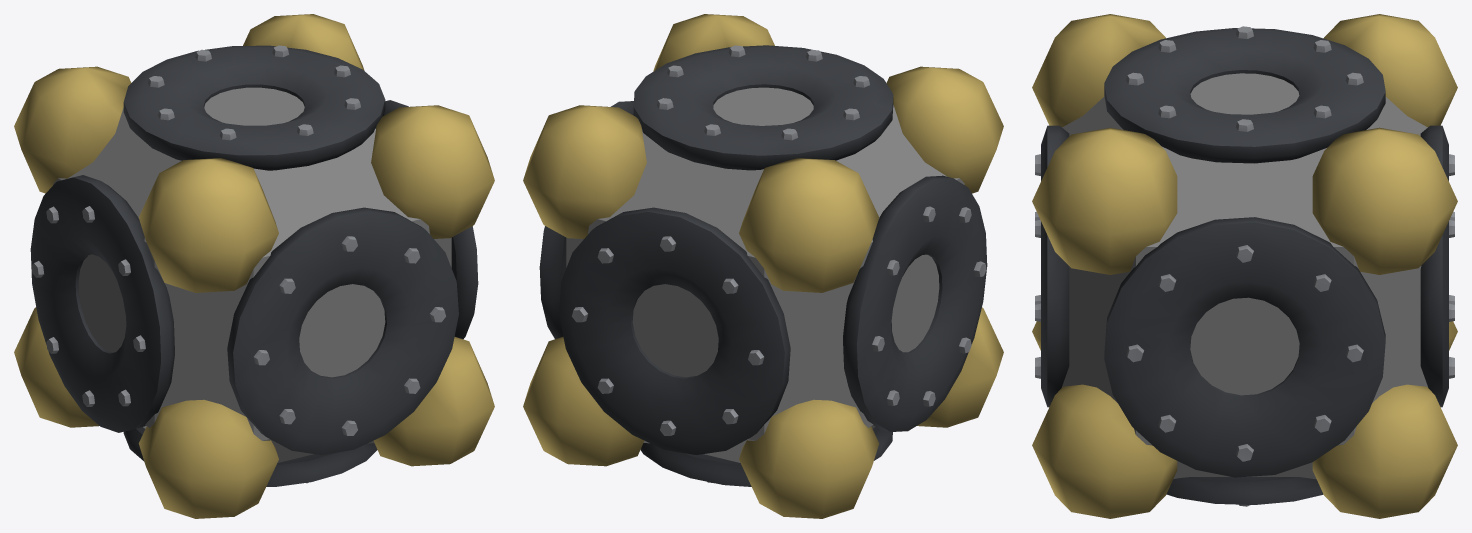
File: bloque_rcs.glb
3 renders of one model, left to right at view 1: azimuth 30°, elevation 25°; view 2: azimuth 150°, elevation 25°; view 3: azimuth 270°, elevation 25°, orthographic. The views are drawn at different scales.
Parts seen in each view (by area): view 1: cuerpo; view 2: cuerpo; view 3: cuerpo.
Part boxes in pixels (x1,y1,x2,y2): cuerpo: (14, 14, 494, 518); cuerpo: (523, 14, 1003, 518); cuerpo: (1032, 14, 1457, 518).
Size of the model in its own units: 0.2716 by 0.2716 by 0.2716.
